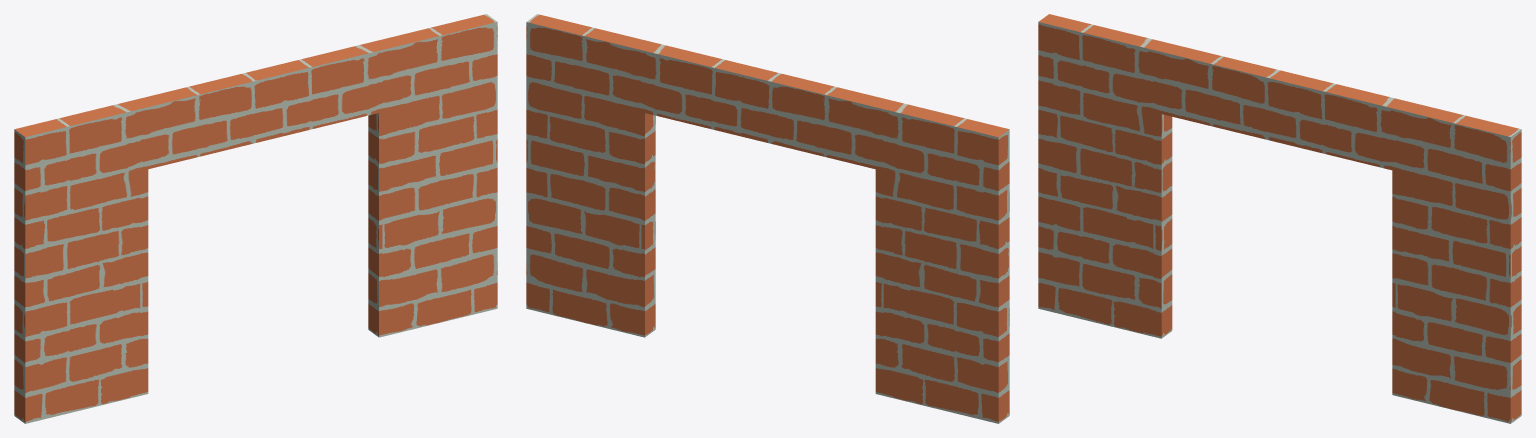
The model's file is Brick_Wall_Doorframe_01.fbx.
3 renders of one model, left to right at view 1: azimuth 30°, elevation 25°; view 2: azimuth 150°, elevation 25°; view 3: azimuth 330°, elevation 25°, orthographic.
Parts seen in each view (by area): view 1: Brick_Wall_Doorframe_01; view 2: Brick_Wall_Doorframe_01; view 3: Brick_Wall_Doorframe_01.
Part boxes in pixels (<box>): Brick_Wall_Doorframe_01: <box>14,14,497,423</box>; Brick_Wall_Doorframe_01: <box>526,14,1009,423</box>; Brick_Wall_Doorframe_01: <box>1038,14,1521,423</box>.
Size of the model in its own units: 500 by 290 by 20.
